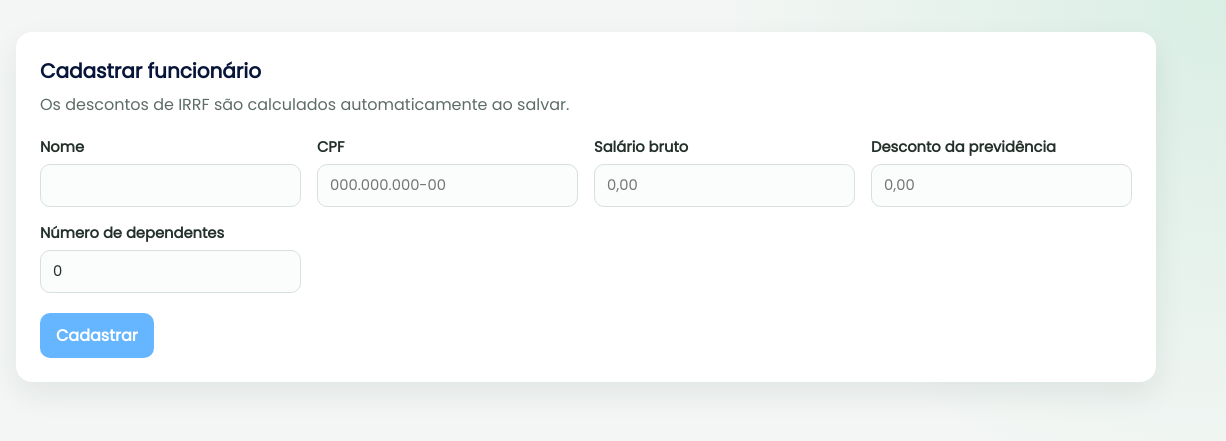
Test: EmployeeForm › impede cadastro com CPF já existente
The width and height of the screenshot is (1226, 441).
Type "Outra Pessoa" into the field labelled "Nome".
click(170, 186); type("Outra Pessoa")  # box [40,164,301,207]
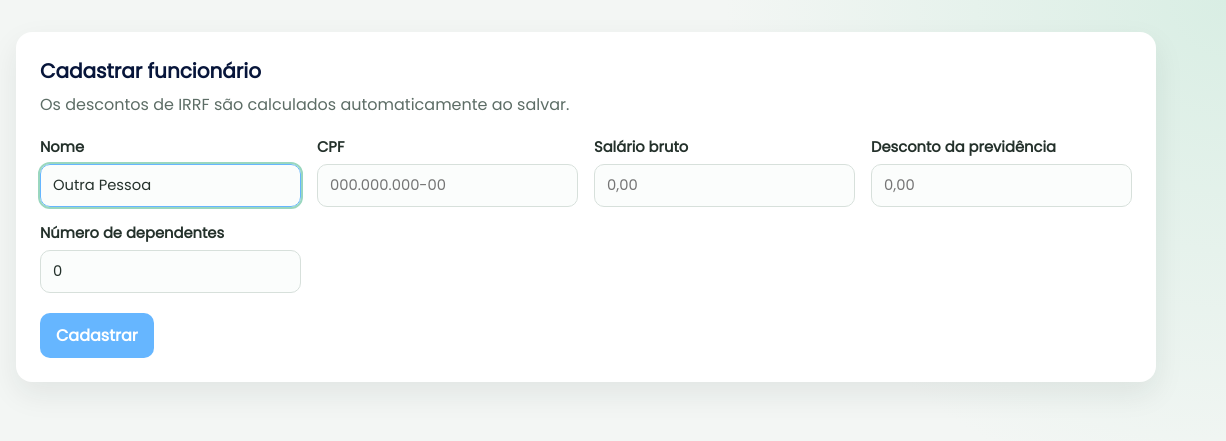
Type "52998224725" into the field labelled "CPF".
click(448, 186); type("52998224725")  # box [317,164,578,207]
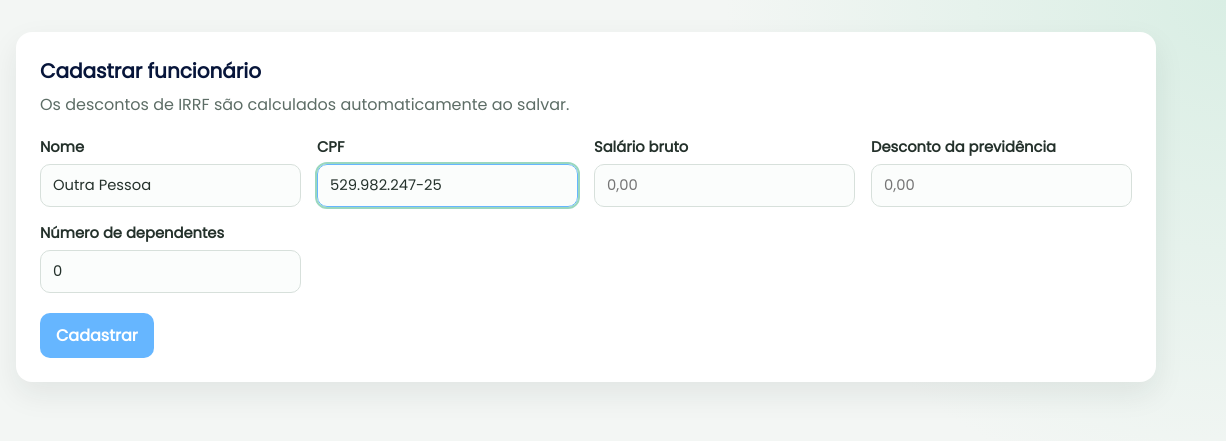
Type "2000" into the number field labelled "Salário bruto".
click(724, 186); type("2000")  # box [594,164,855,207]
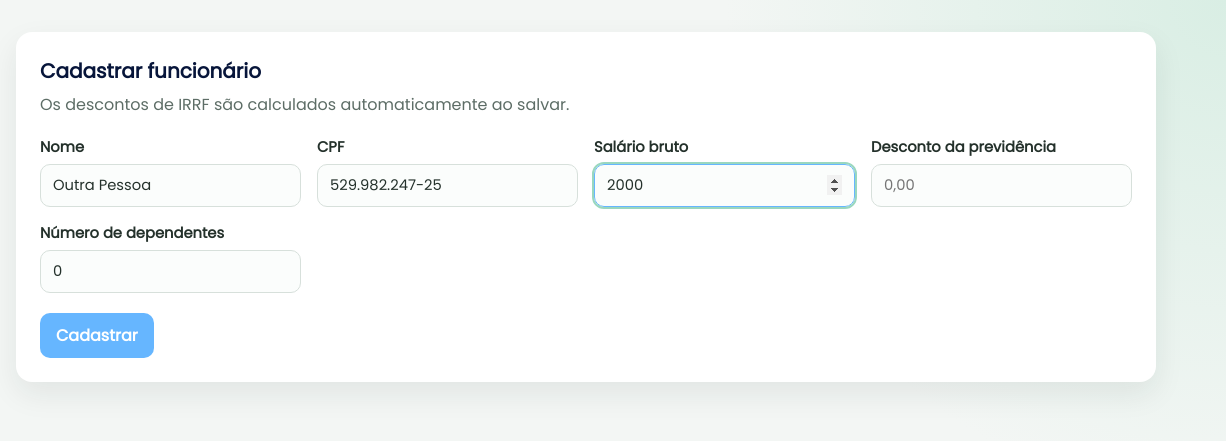
Type "100" into the number field labelled "Desconto da previdência".
click(1002, 186); type("100")  # box [871,164,1132,207]
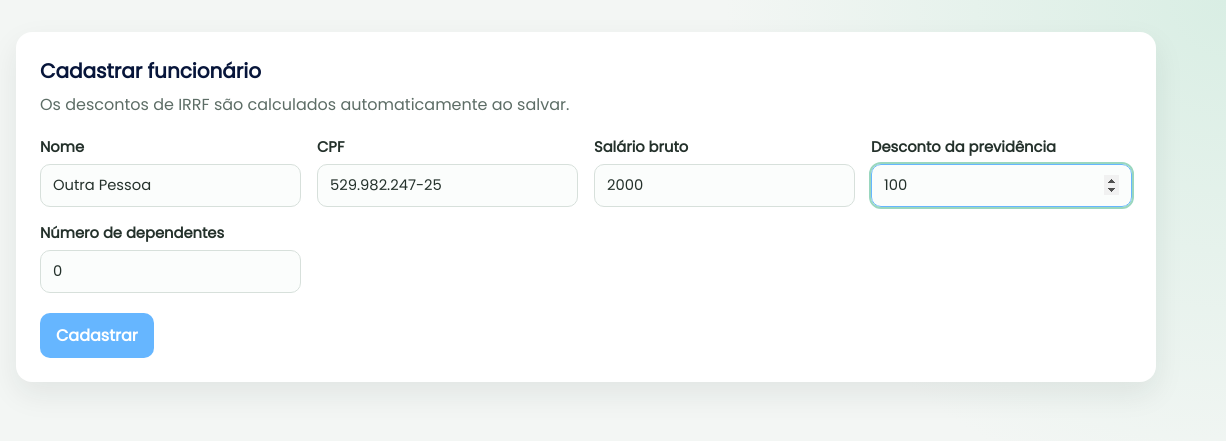
Click the button "Cadastrar".
click(97, 336)  # box [40,313,154,358]
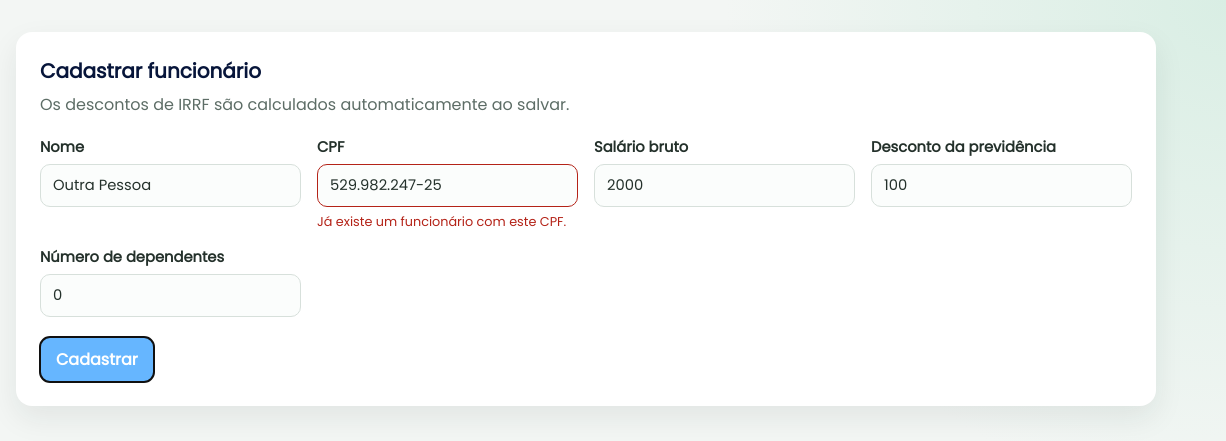
Check: the text "Já existe um funcionário com este CPF." is shown, box [317,213,578,231]
